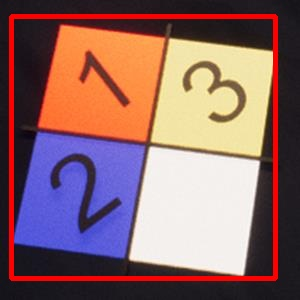nfpa: (11, 16, 275, 278)
